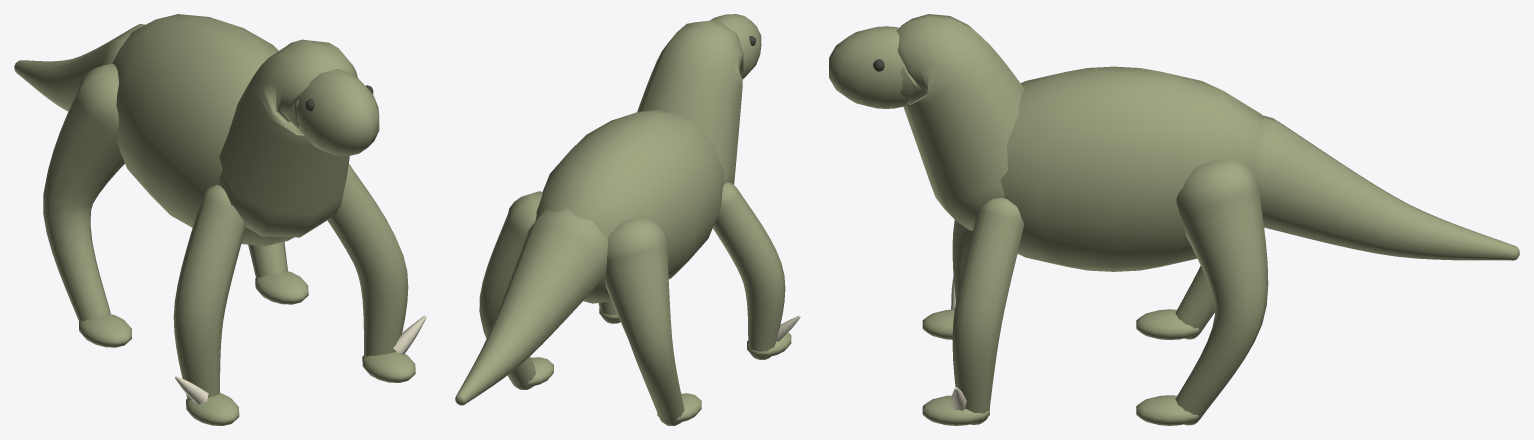
File: iguanodon.glb
3 views of the same model, side by side, from view 1: azimuth 30°, elevation 25°; view 2: azimuth 150°, elevation 25°; view 3: azimuth 270°, elevation 25° (orthographic). The views are drawn at different scales.
Visible parts, largest first — view 1: iguanodon; view 2: iguanodon; view 3: iguanodon.
Boxes of the visible parts, x1,y1,x2,y2 form: iguanodon: [14, 14, 426, 425]; iguanodon: [455, 14, 800, 425]; iguanodon: [829, 14, 1519, 425].
Size of the model in its own units: 3.77 by 5.22 by 9.
